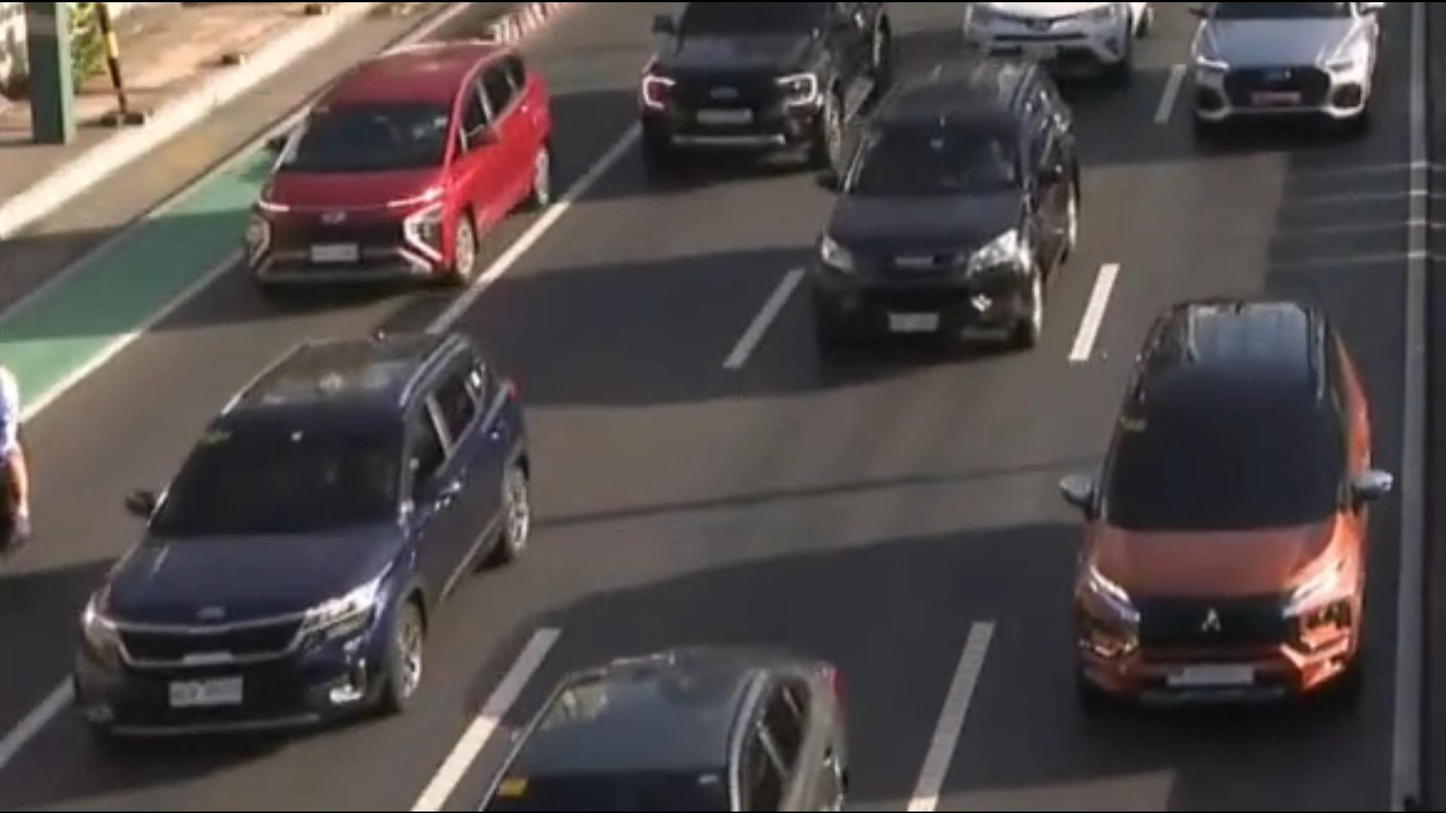SUV: (6, 307, 563, 797), (982, 290, 1433, 745), (765, 57, 1094, 382), (218, 29, 571, 308), (637, 0, 898, 179)
Sedan: (413, 621, 895, 813)
